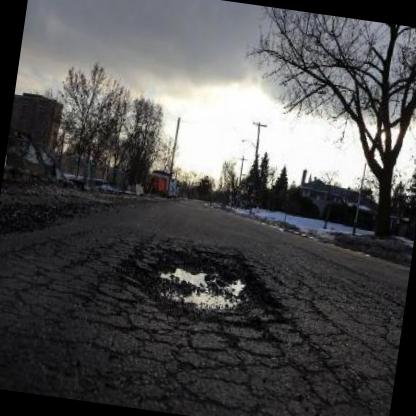pothole: (130, 239, 286, 332)
